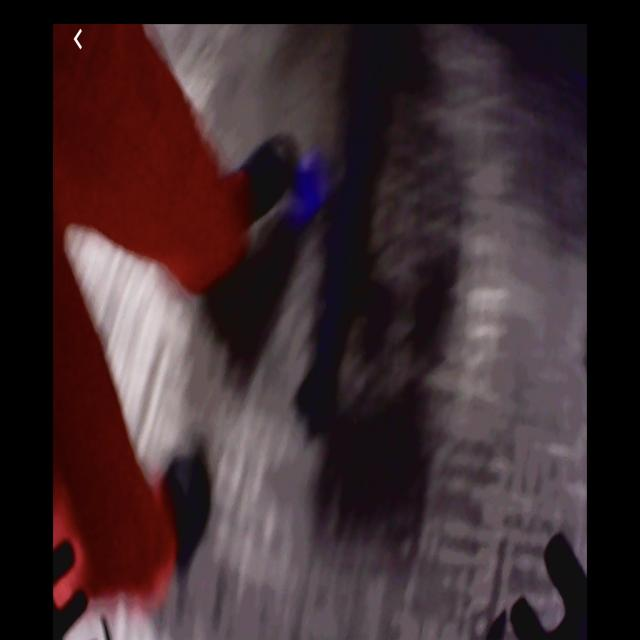ball: (294, 144, 327, 221)
